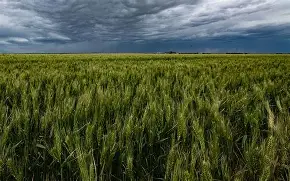crops: (0, 58, 285, 179), (1, 50, 288, 64), (32, 123, 95, 180), (231, 79, 288, 138), (0, 70, 62, 122), (132, 68, 193, 117), (3, 51, 103, 54)
